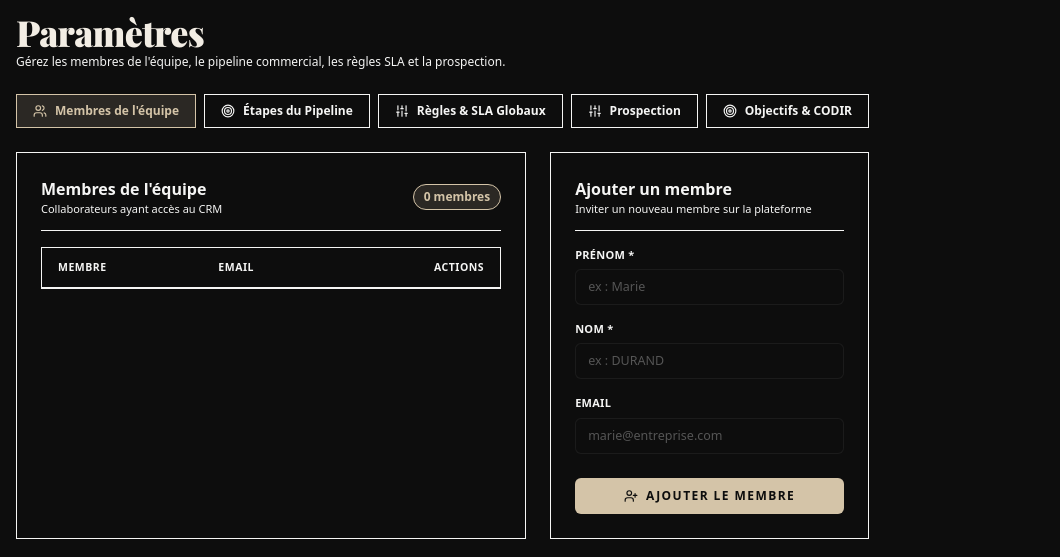
Test case: Settings View › supports pipeline stage editing state
The width and height of the screenshot is (1060, 557).
Click the button "Étapes du Pipeline". click: {"x": 287, "y": 111}
box: [204,94,370,128]
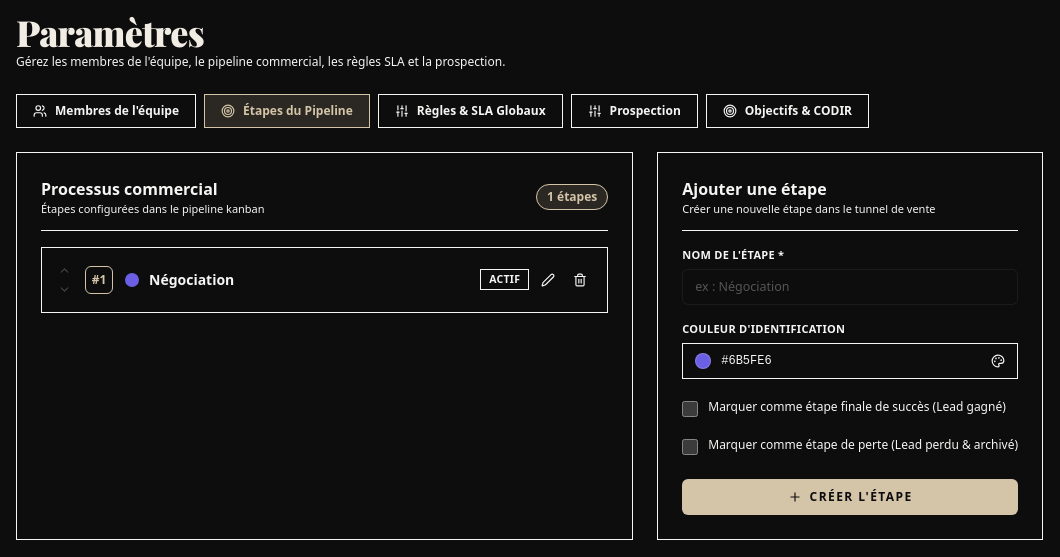
Expected: the text "Négociation" is shown, [149,270,234,290]
Expected: the button titled "Modifier l'étape" is shown, [535,266,561,292]
